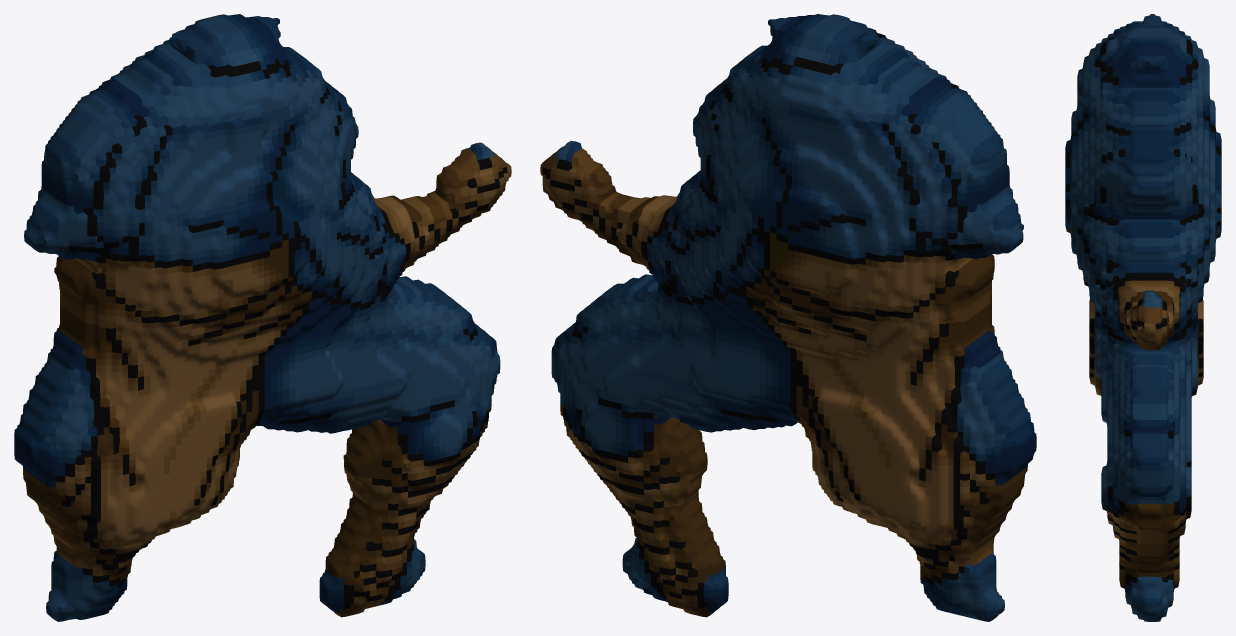
The model's file is Fight_705_2_01.obj.
The picture shows the model from 3 angles, left to right: view 1: azimuth 30°, elevation 25°; view 2: azimuth 150°, elevation 25°; view 3: azimuth 270°, elevation 25°; orthographic projection. The views are drawn at different scales.
Size of the model in its own units: 7.9 by 9.6 by 2.6.
Materials: 1 (1 with a texture image).
